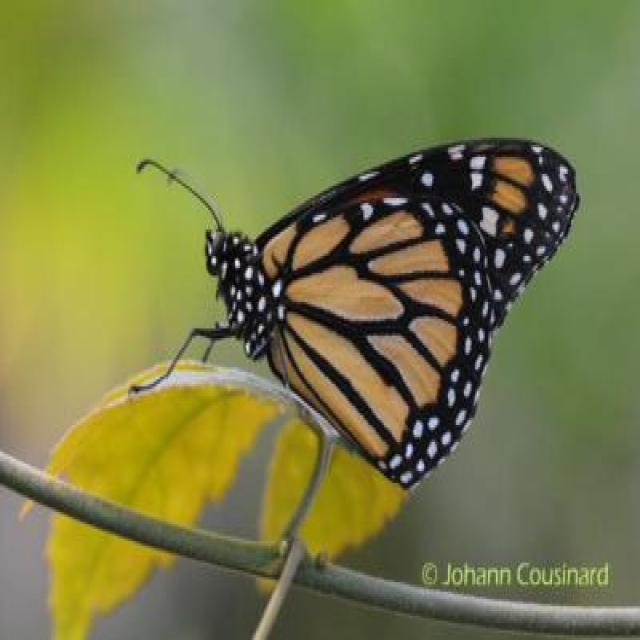antennae: (134, 147, 228, 239)
body: (202, 220, 287, 360)
insect: (129, 134, 582, 492)
legs: (133, 315, 254, 422)
wings: (256, 138, 578, 486)
